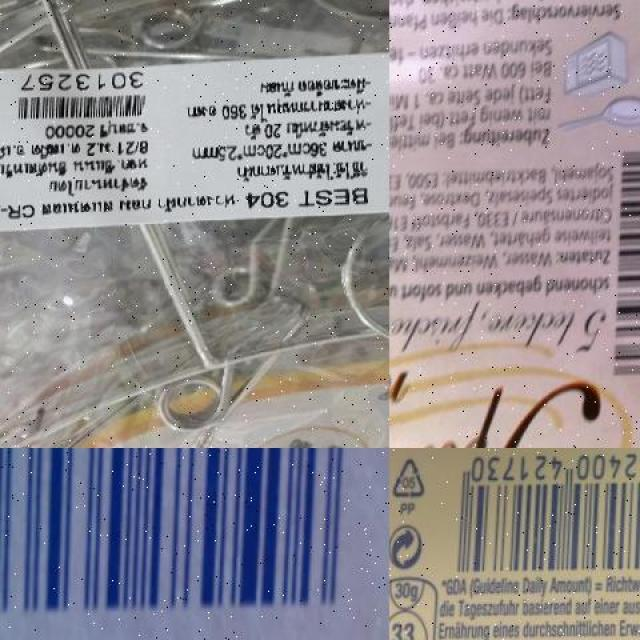Barcode: (0, 448, 389, 640), (440, 448, 640, 579), (605, 128, 640, 413), (11, 70, 157, 123)
